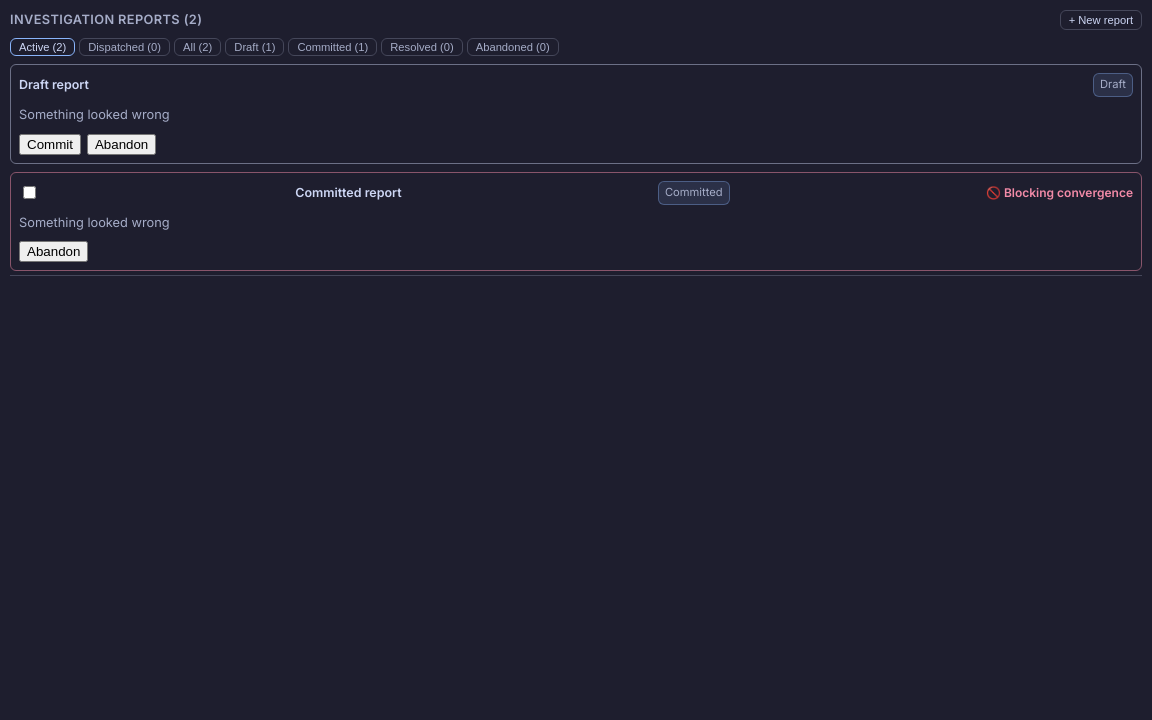
Test case: MilestoneDecisionInbox › investigation report section › lists reports by state, and lets the operator draft and commit one
Expected: the element with test id "report-card-report-draft" is shown, [10,64,1142,164]
Expected: the element with test id "report-card-report-committed" is shown, [10,172,1142,271]
Filtering by state narrows the visible cards.
Step 1. Click the button with test id "report-filter-draft" → (255, 48), box [225,38,284,56]
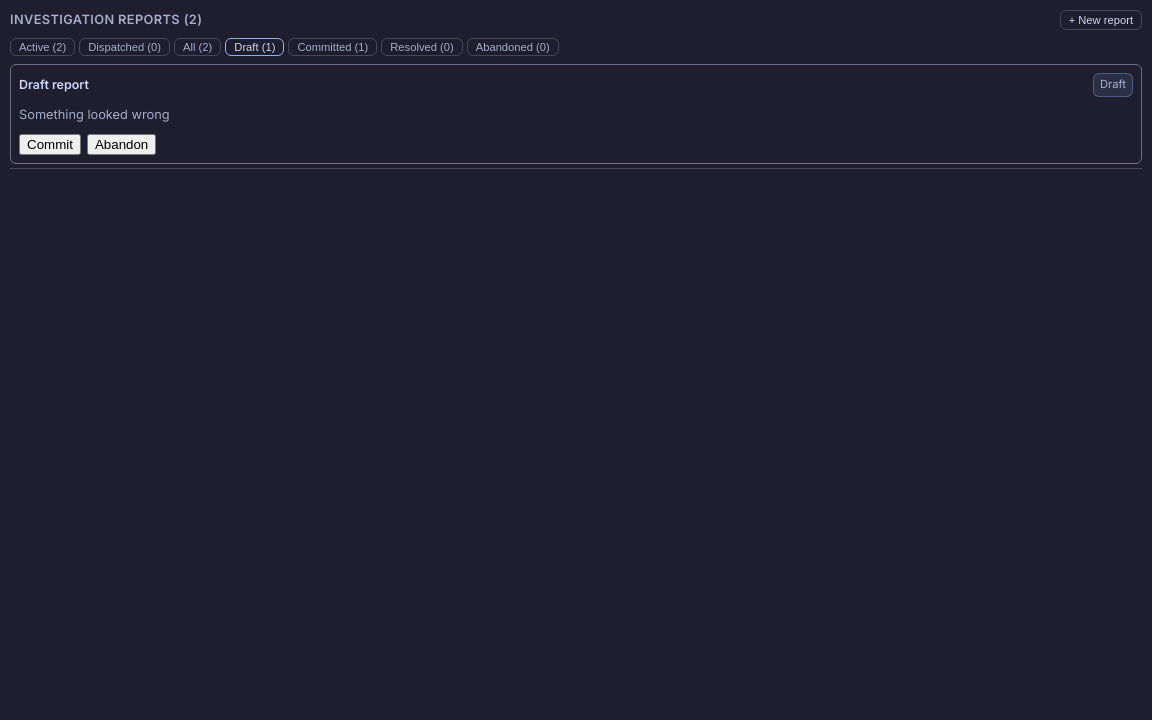
Expected: the element with test id "report-card-report-draft" is shown, [10,64,1142,164]
Expected: the element with test id "report-card-report-committed" is gone
Step 2. Click the button with test id "report-filter-all" → (198, 48), box [174,38,221,56]
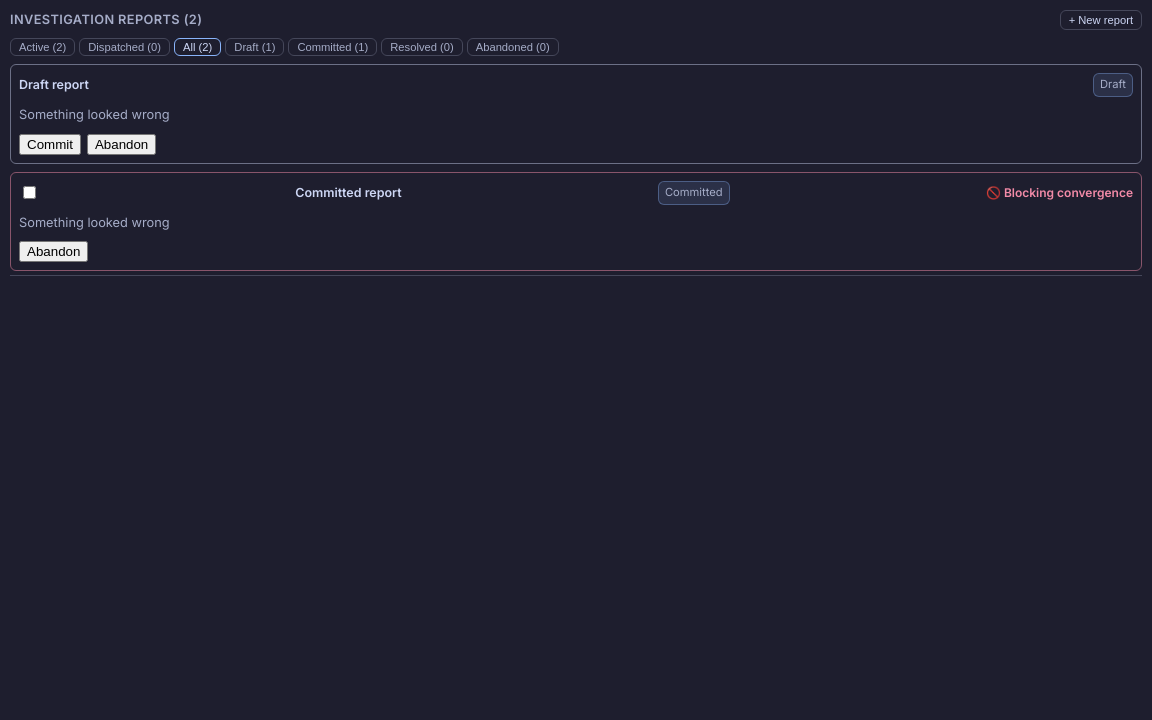
Step 3. Click the button with test id "report-start-draft" → (1101, 20), box [1060,10,1142,30]
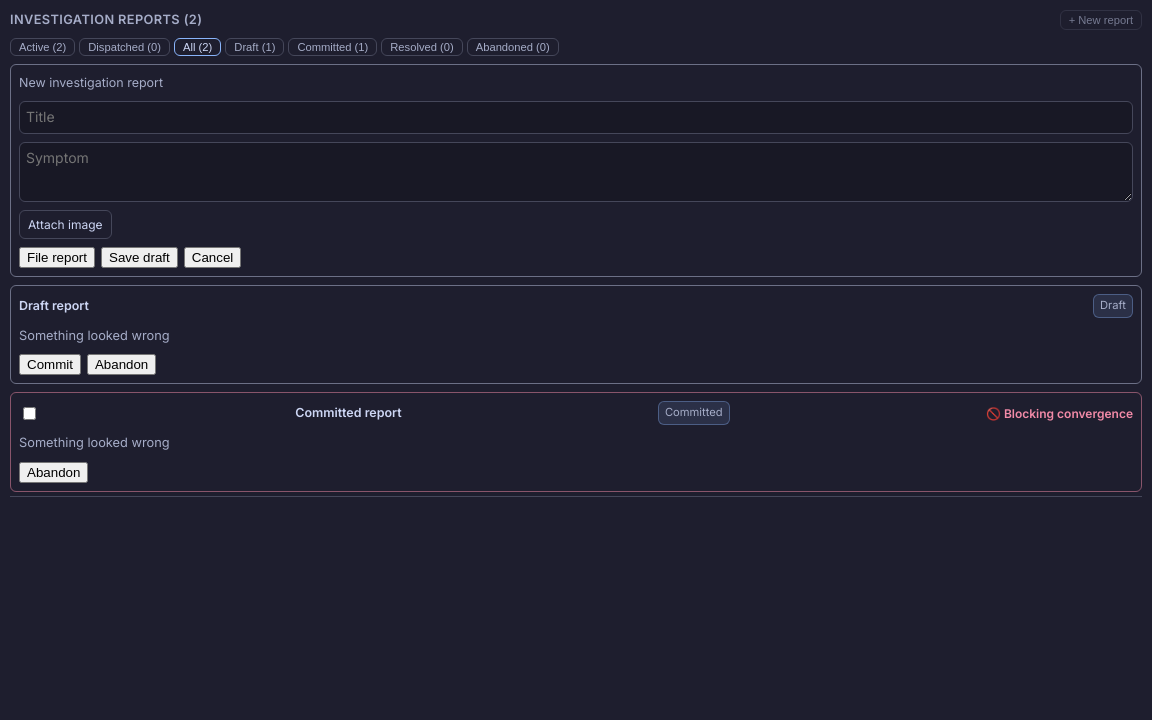
Step 4. Type "New symptom" into the field with test id "report-draft-title" → (576, 118), box [19,101,1133,134]
Step 5. Type "It broke in prod" into the text box with test id "report-draft-symptom" → (576, 172), box [19,142,1133,202]
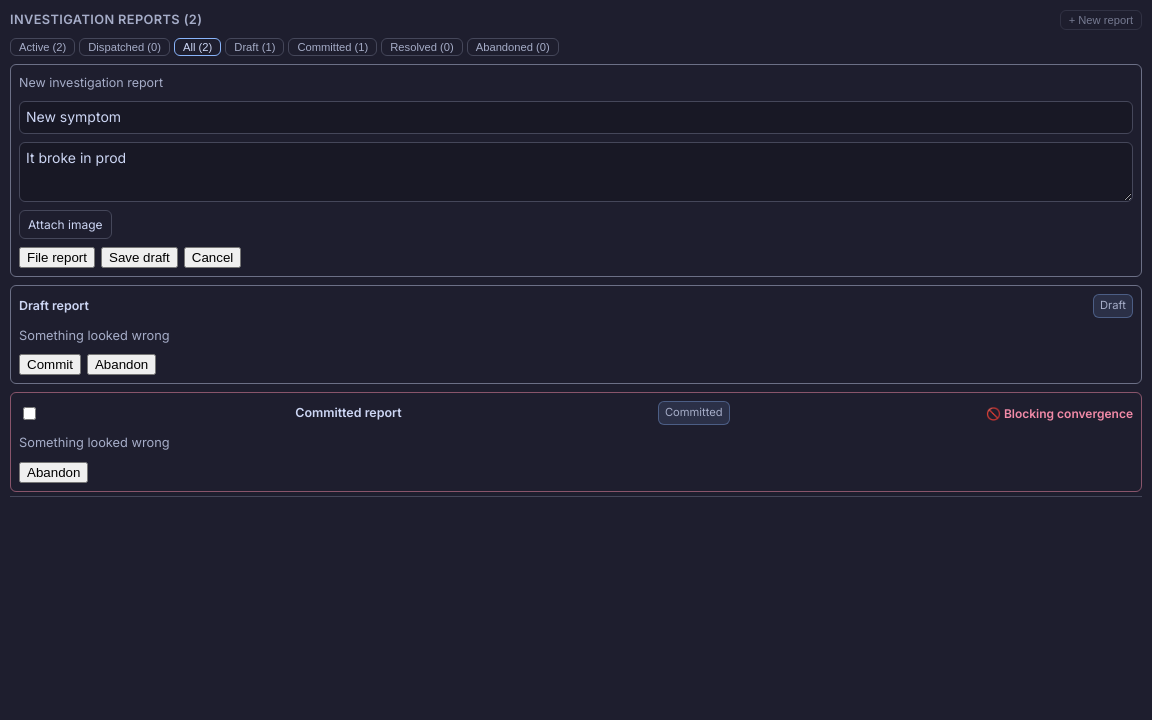
Step 6. Click the button with test id "report-draft-submit" → (57, 258), box [19,247,95,268]
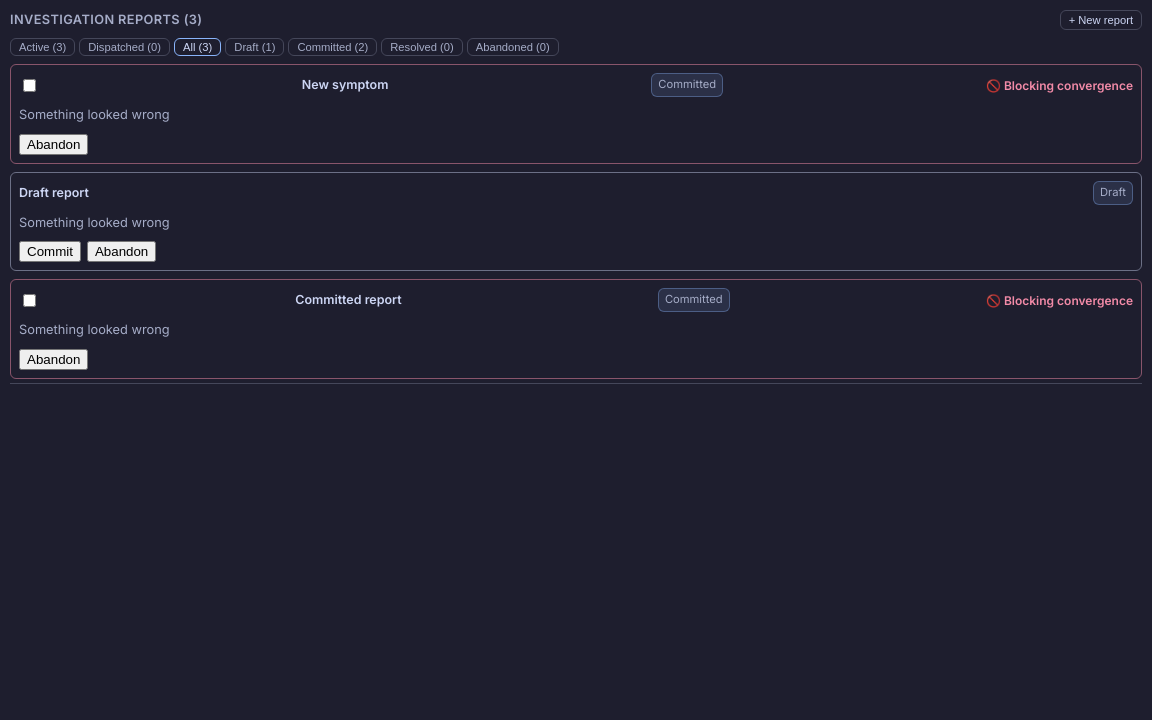
Expected: the element with test id "report-card-report-new" is shown, [10,64,1142,164]
Expected: the text with test id "report-state-report-new" reads "Committed", [658,78,716,92]
Commit the pre-existing draft report.
Step 7. Click the button with test id "report-commit-report-draft" → (50, 252), box [19,241,81,262]
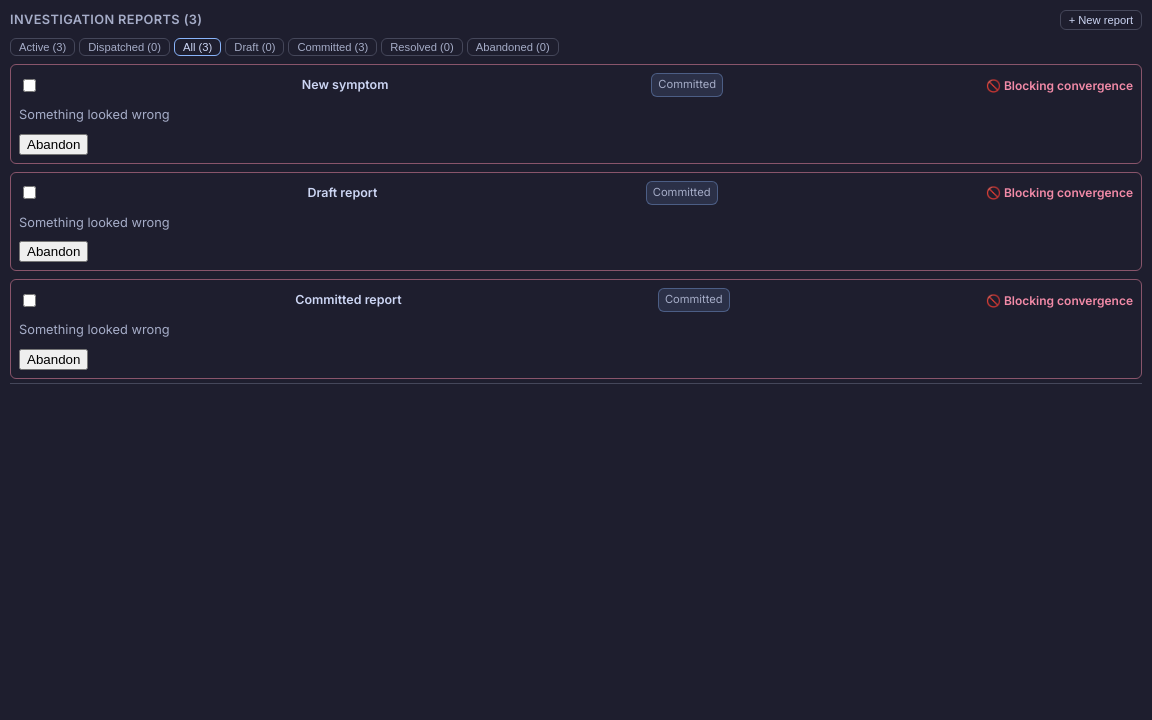
Expected: the text with test id "report-state-report-draft" reads "Committed", [653,185,710,199]
